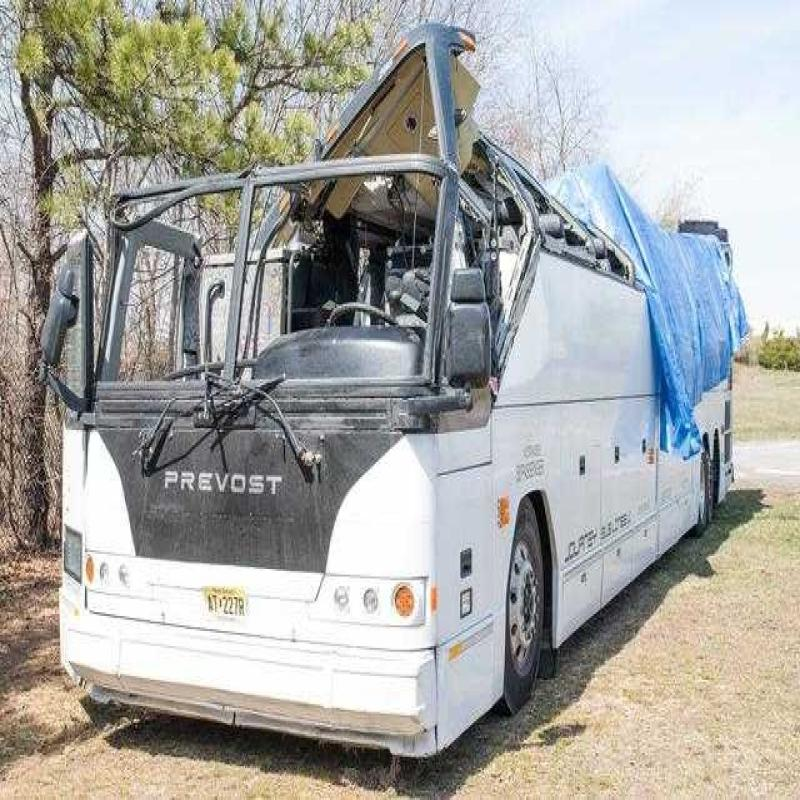bus: (62, 175, 728, 736)
